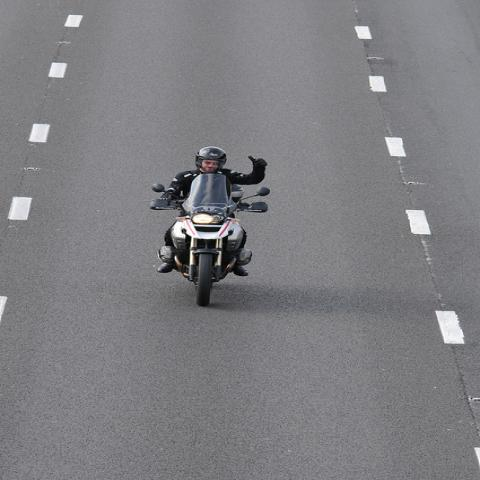motorcycle: (147, 174, 274, 307)
